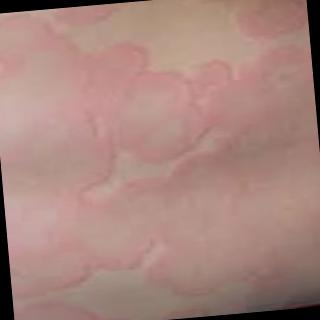urticaria: (66, 136, 141, 220), (42, 244, 185, 284), (12, 17, 80, 72), (103, 34, 157, 95), (193, 68, 247, 119), (227, 9, 284, 39)
